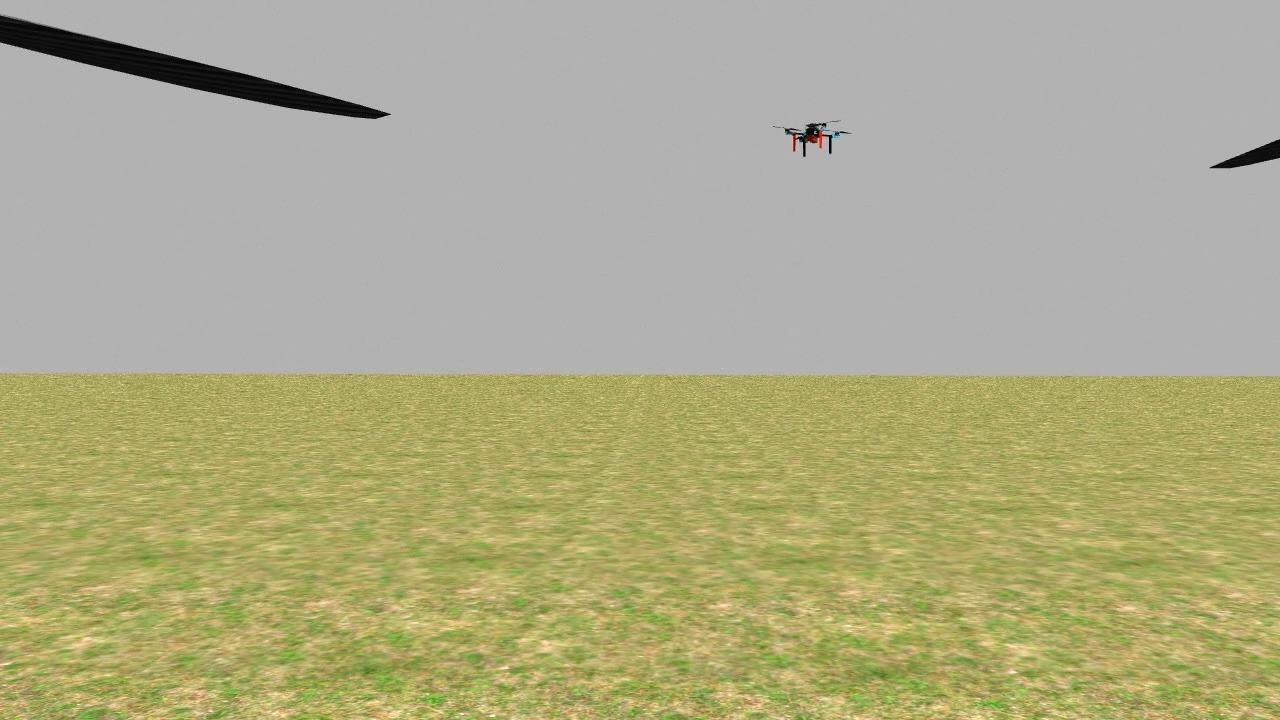UAV: (773, 112, 850, 171)
